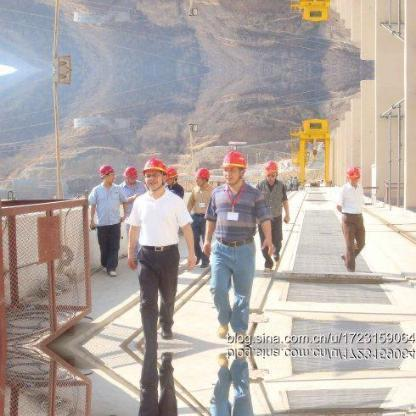helmet: (140, 154, 170, 178), (221, 148, 249, 171), (97, 163, 117, 180), (192, 164, 211, 181), (121, 164, 138, 180), (345, 165, 362, 181), (162, 165, 179, 180), (261, 159, 278, 173)
